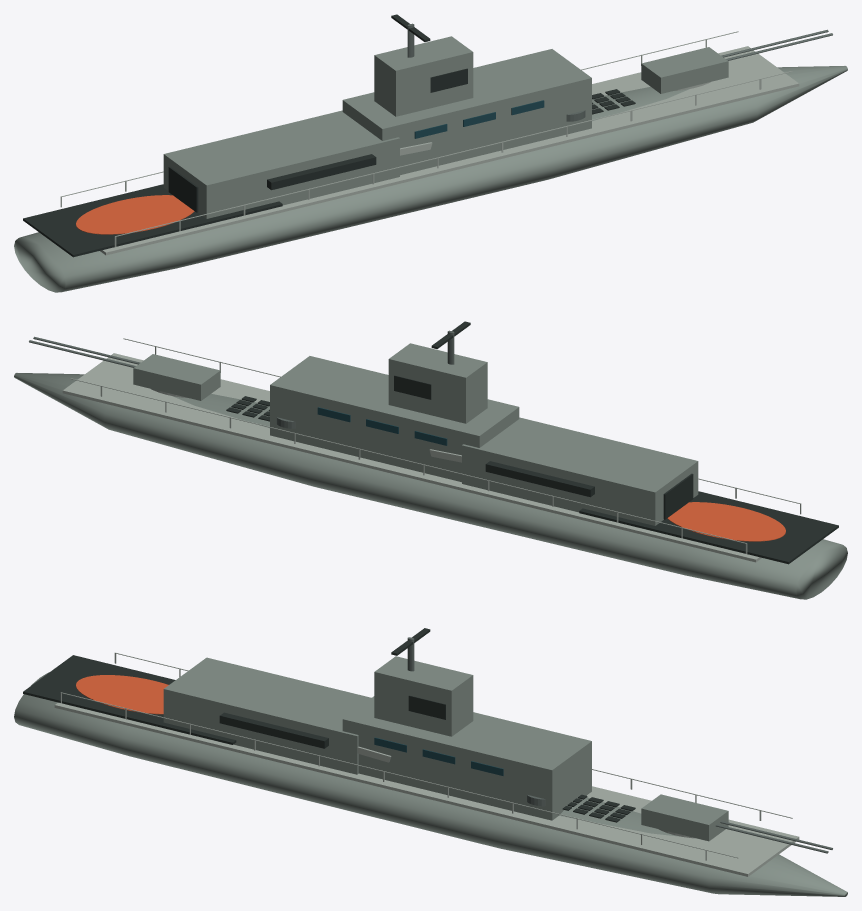
File: destroyer.glb
3 views of the same model, one above another, from view 1: azimuth 30°, elevation 25°; view 2: azimuth 150°, elevation 25°; view 3: azimuth 330°, elevation 25° (orthographic).
Parts seen in each view (by area): view 1: DestroyerHull, ForwardSuperstructure, AftSuperstructure, WeatherDeck, IntegratedMast, FlightDeck, HelipadMark, StealthGunHouse, RHIB.001, SafetyRail.001, HangarDoor, AESA_Panel.001; view 2: DestroyerHull, ForwardSuperstructure, AftSuperstructure, WeatherDeck, IntegratedMast, FlightDeck, HelipadMark, StealthGunHouse, RHIB, SafetyRail, HangarDoor, AESA_Panel; view 3: DestroyerHull, ForwardSuperstructure, AftSuperstructure, WeatherDeck, IntegratedMast, FlightDeck, StealthGunHouse, HelipadMark, RHIB.001, SafetyRail.001, AESA_Panel.001.
Boxes of the visible parts, bbox=[...] form: DestroyerHull: bbox=[14, 66, 847, 292]; ForwardSuperstructure: bbox=[342, 49, 591, 175]; AftSuperstructure: bbox=[163, 110, 399, 218]; WeatherDeck: bbox=[100, 46, 799, 255]; IntegratedMast: bbox=[374, 36, 473, 116]; FlightDeck: bbox=[23, 184, 282, 257]; HelipadMark: bbox=[76, 195, 194, 234]; StealthGunHouse: bbox=[641, 47, 728, 93]; RHIB.001: bbox=[267, 154, 376, 190]; SafetyRail.001: bbox=[116, 71, 792, 236]; HangarDoor: bbox=[168, 166, 198, 212]; AESA_Panel.001: bbox=[430, 68, 467, 92]; DestroyerHull: bbox=[14, 373, 847, 599]; ForwardSuperstructure: bbox=[270, 356, 519, 482]; AftSuperstructure: bbox=[462, 417, 698, 525]; WeatherDeck: bbox=[62, 353, 761, 562]; IntegratedMast: bbox=[388, 343, 487, 423]; FlightDeck: bbox=[579, 491, 838, 564]; HelipadMark: bbox=[667, 502, 785, 541]; StealthGunHouse: bbox=[133, 354, 220, 400]; RHIB: bbox=[485, 461, 594, 497]; SafetyRail: bbox=[69, 378, 745, 543]; HangarDoor: bbox=[663, 473, 693, 519]; AESA_Panel: bbox=[394, 375, 431, 399]; DestroyerHull: bbox=[14, 672, 847, 896]; ForwardSuperstructure: bbox=[342, 696, 591, 820]; AftSuperstructure: bbox=[163, 657, 371, 774]; WeatherDeck: bbox=[54, 702, 799, 876]; IntegratedMast: bbox=[374, 656, 473, 736]; FlightDeck: bbox=[23, 655, 236, 744]; StealthGunHouse: bbox=[641, 794, 728, 841]; HelipadMark: bbox=[76, 675, 168, 714]; RHIB.001: bbox=[219, 712, 328, 748]; SafetyRail.001: bbox=[61, 692, 738, 858]; AESA_Panel.001: bbox=[408, 695, 445, 719].
Size of the model in its own units: 91 by 18.87 by 11.8.
